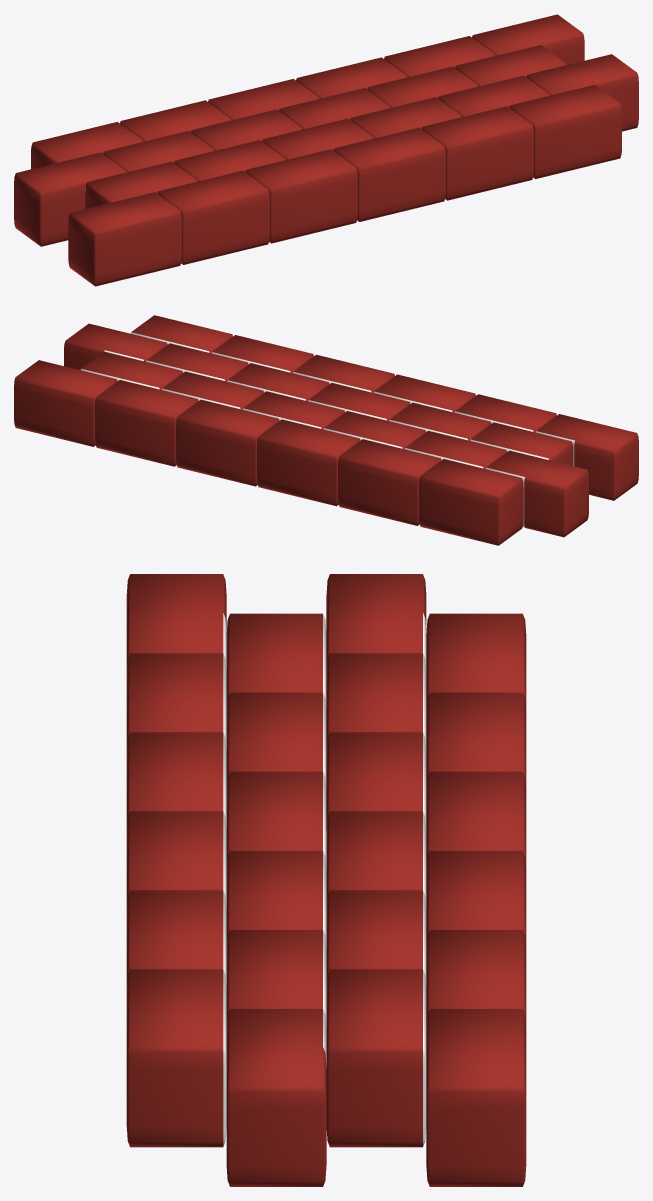
File: wallSegment.fbx
3 views of the same model, one above another, from view 1: azimuth 30°, elevation 25°; view 2: azimuth 150°, elevation 25°; view 3: azimuth 270°, elevation 25° (orthographic). The views are drawn at different scales.
Visible parts, largest first — view 1: brickWall; view 2: brickWall; view 3: brickWall.
Part boxes in pixels (x1,y1,x2,y2): brickWall: [14, 14, 638, 286]; brickWall: [14, 315, 638, 545]; brickWall: [126, 574, 526, 1186].
Size of the model in its own units: 687 by 63.38 by 226.
Materials: 1 (1 with a texture image).
